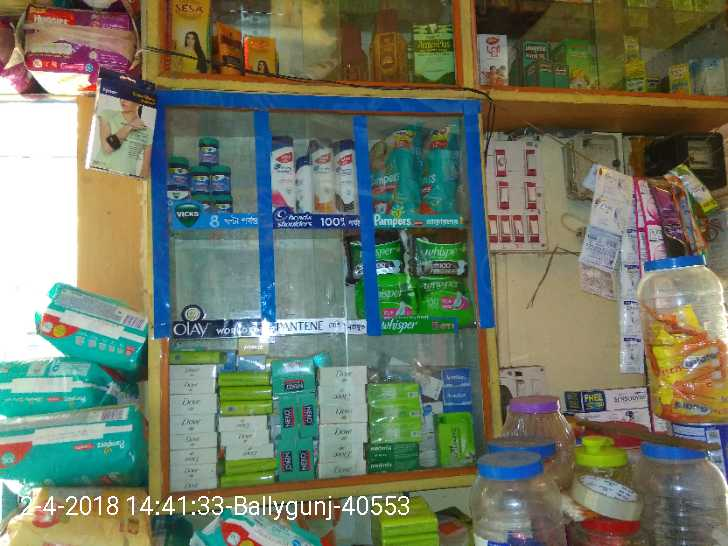vicks: (173, 130, 235, 212)
